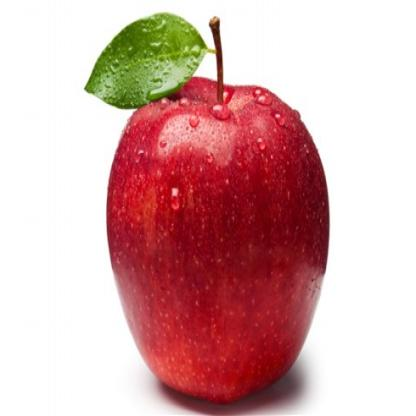apple: (106, 74, 335, 398)
